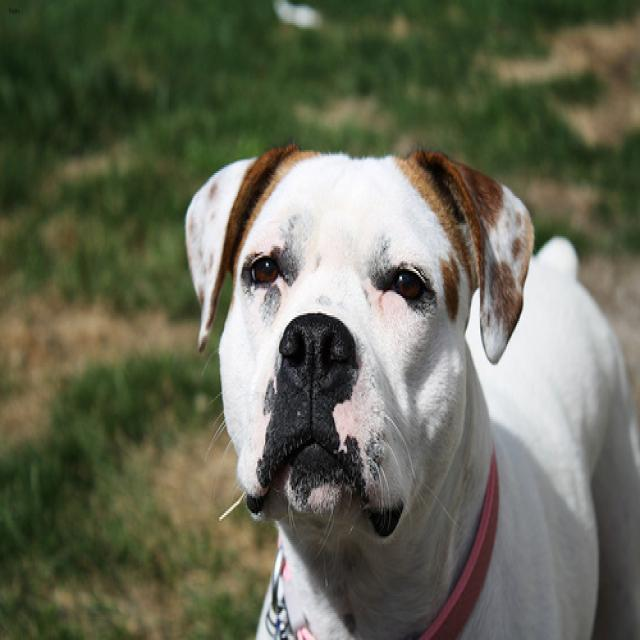dog-american_bulldog: (178, 136, 637, 636)
